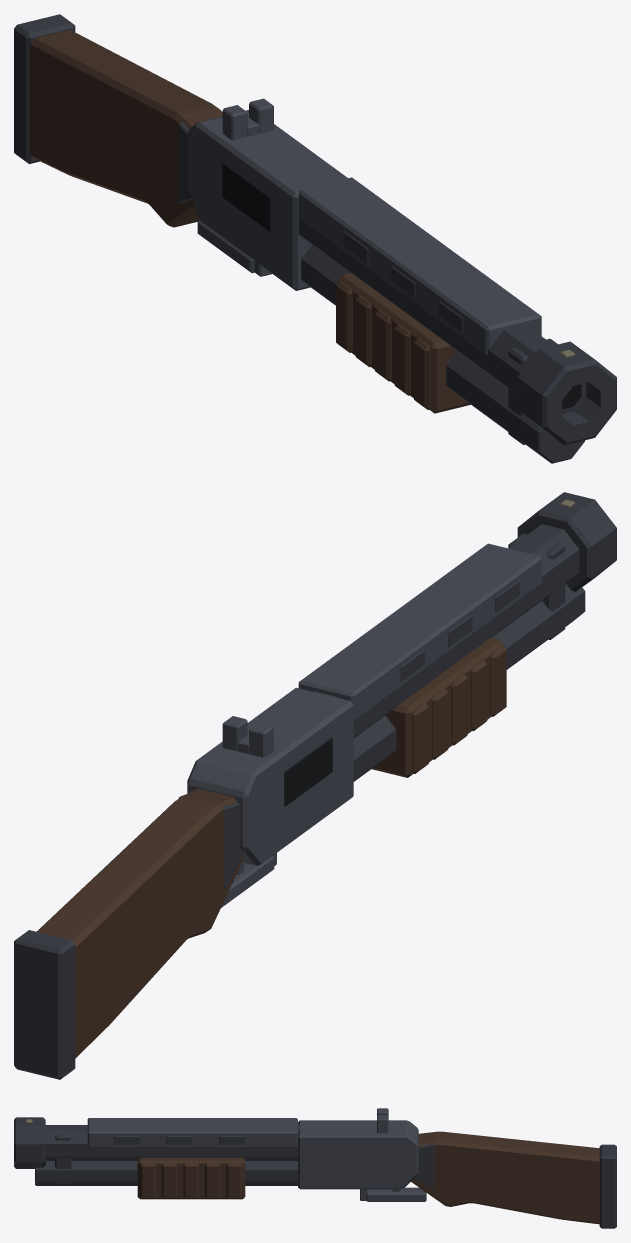
The model's file is w_shotgun.glb.
The picture shows the model from 3 angles, top to bottom: view 1: azimuth 30°, elevation 25°; view 2: azimuth 150°, elevation 25°; view 3: azimuth 270°, elevation 25°; orthographic projection. The views are drawn at different scales.
Visible parts, largest first — view 1: stock_wzA__wood__p463429, barrel_wzB__dark__p353840, shield_wzB__frame__p444851, body_wzB__frame__p444851, pump_wzA__wood__p463429, stock_wzB__dark__p353840, trim_wzN__black__p16171b, sight_wzN__frame__p444851, shield_wzN__dark__p353840, stock_wzN__dark__p353840; view 2: stock_wzA__wood__p463429, body_wzB__frame__p444851, barrel_wzB__dark__p353840, shield_wzB__frame__p444851, pump_wzA__wood__p463429, stock_wzB__dark__p353840, trim_wzN__black__p16171b, sight_wzN__frame__p444851, stock_wzN__dark__p353840, shield_wzN__dark__p353840; view 3: stock_wzA__wood__p463429, barrel_wzB__dark__p353840, body_wzB__frame__p444851, shield_wzB__frame__p444851, pump_wzA__wood__p463429, stock_wzB__dark__p353840, shield_wzN__dark__p353840, stock_wzN__dark__p353840, sight_wzN__frame__p444851.
Part boxes in pixels (<box>): stock_wzA__wood__p463429: <box>30,30,222,227</box>; barrel_wzB__dark__p353840: <box>298,217,616,463</box>; shield_wzB__frame__p444851: <box>298,177,541,354</box>; body_wzB__frame__p444851: <box>187,110,347,290</box>; pump_wzA__wood__p463429: <box>336,273,470,413</box>; stock_wzB__dark__p353840: <box>14,14,75,163</box>; trim_wzN__black__p16171b: <box>222,163,581,409</box>; sight_wzN__frame__p444851: <box>222,98,273,140</box>; shield_wzN__dark__p353840: <box>343,231,463,332</box>; stock_wzN__dark__p353840: <box>178,122,192,203</box>; stock_wzA__wood__p463429: <box>37,788,244,1058</box>; body_wzB__frame__p444851: <box>187,687,353,907</box>; barrel_wzB__dark__p353840: <box>313,492,616,781</box>; shield_wzB__frame__p444851: <box>298,543,541,720</box>; pump_wzA__wood__p463429: <box>371,637,506,777</box>; stock_wzB__dark__p353840: <box>14,930,75,1079</box>; trim_wzN__black__p16171b: <box>284,737,332,806</box>; sight_wzN__frame__p444851: <box>222,716,273,757</box>; stock_wzN__dark__p353840: <box>178,794,243,888</box>; shield_wzN__dark__p353840: <box>400,580,519,681</box>; stock_wzA__wood__p463429: <box>411,1131,599,1224</box>; barrel_wzB__dark__p353840: <box>14,1117,299,1185</box>; body_wzB__frame__p444851: <box>298,1120,426,1201</box>; shield_wzB__frame__p444851: <box>87,1118,297,1147</box>; pump_wzA__wood__p463429: <box>137,1157,245,1199</box>; stock_wzB__dark__p353840: <box>599,1144,616,1228</box>; shield_wzN__dark__p353840: <box>114,1136,245,1144</box>; stock_wzN__dark__p353840: <box>414,1143,434,1189</box>; sight_wzN__frame__p444851: <box>377,1108,388,1133</box>.
Size of the model in its own units: 0.1 by 0.2292 by 1.15.
